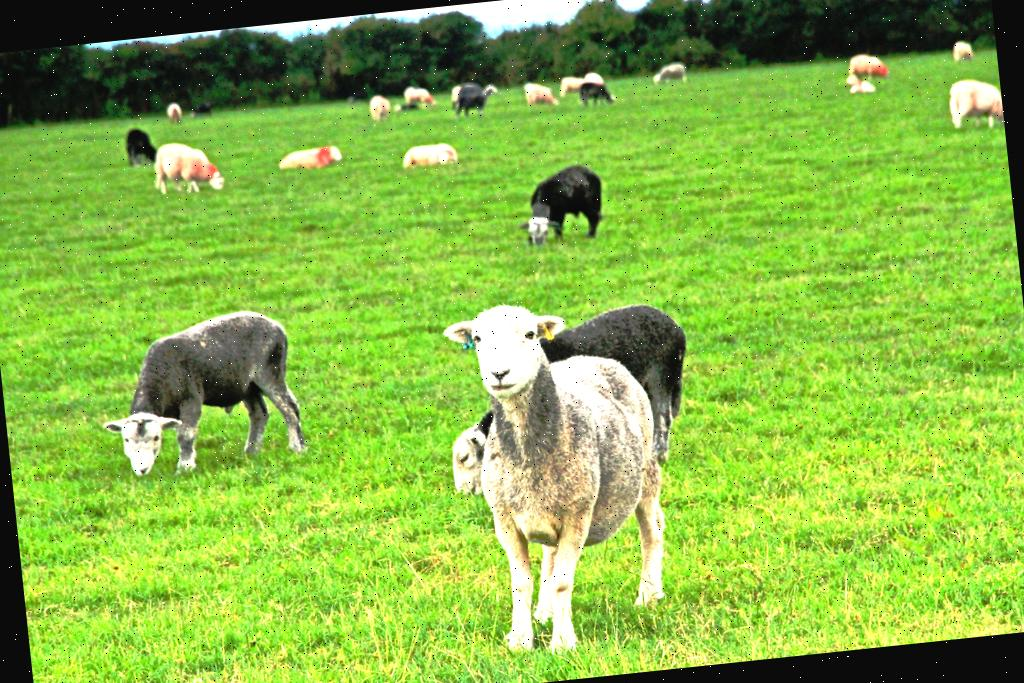Sheep: (427, 285, 701, 665), (426, 300, 708, 512), (90, 307, 306, 486), (516, 161, 618, 255), (152, 139, 224, 195), (946, 76, 1003, 131), (278, 142, 348, 176), (122, 128, 160, 173), (401, 143, 459, 171), (648, 58, 692, 92), (848, 52, 892, 83), (520, 79, 562, 110)
